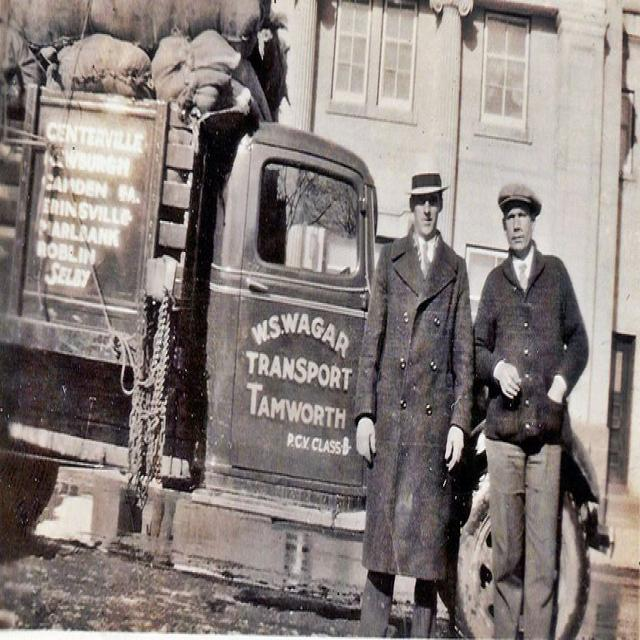Vehicle: (0, 79, 618, 633)
